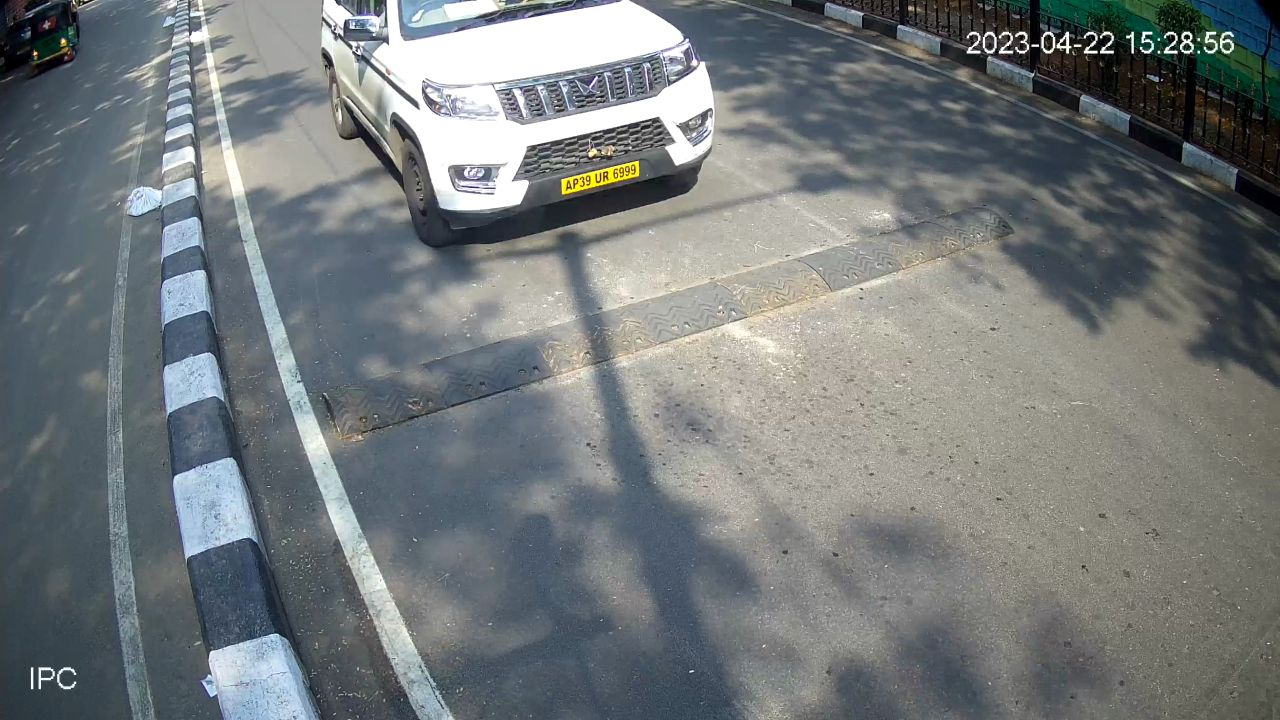license_plate: (557, 155, 643, 200)
